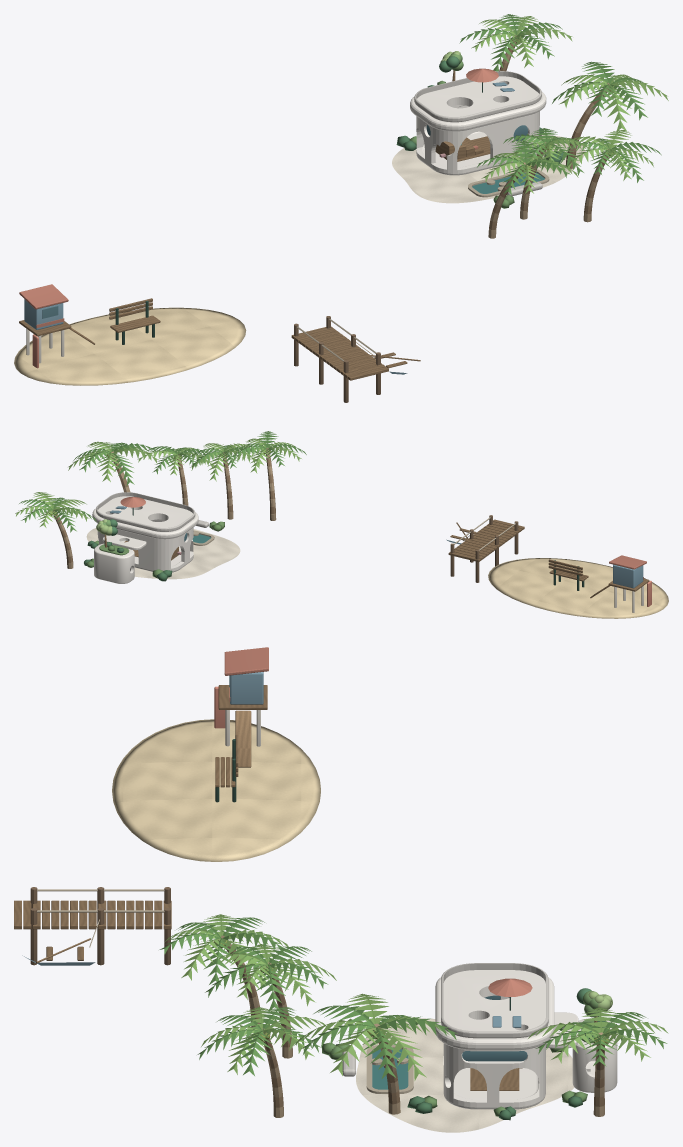
File: coast.glb
The picture shows the model from 3 angles, top to bottom: view 1: azimuth 30°, elevation 25°; view 2: azimuth 150°, elevation 25°; view 3: azimuth 270°, elevation 25°; orthographic projection. The views are drawn at different scales.
Parts seen in each view (by area): view 1: coast_static; view 2: coast_static; view 3: coast_static.
Boxes of the visible parts, box(x1,y1,x2,y2) form: coast_static: box(14, 14, 668, 402); coast_static: box(15, 431, 668, 618); coast_static: box(14, 647, 668, 1132).
Size of the model in its own units: 24.16 by 4.52 by 14.71.
6 materials, 2 textured.
